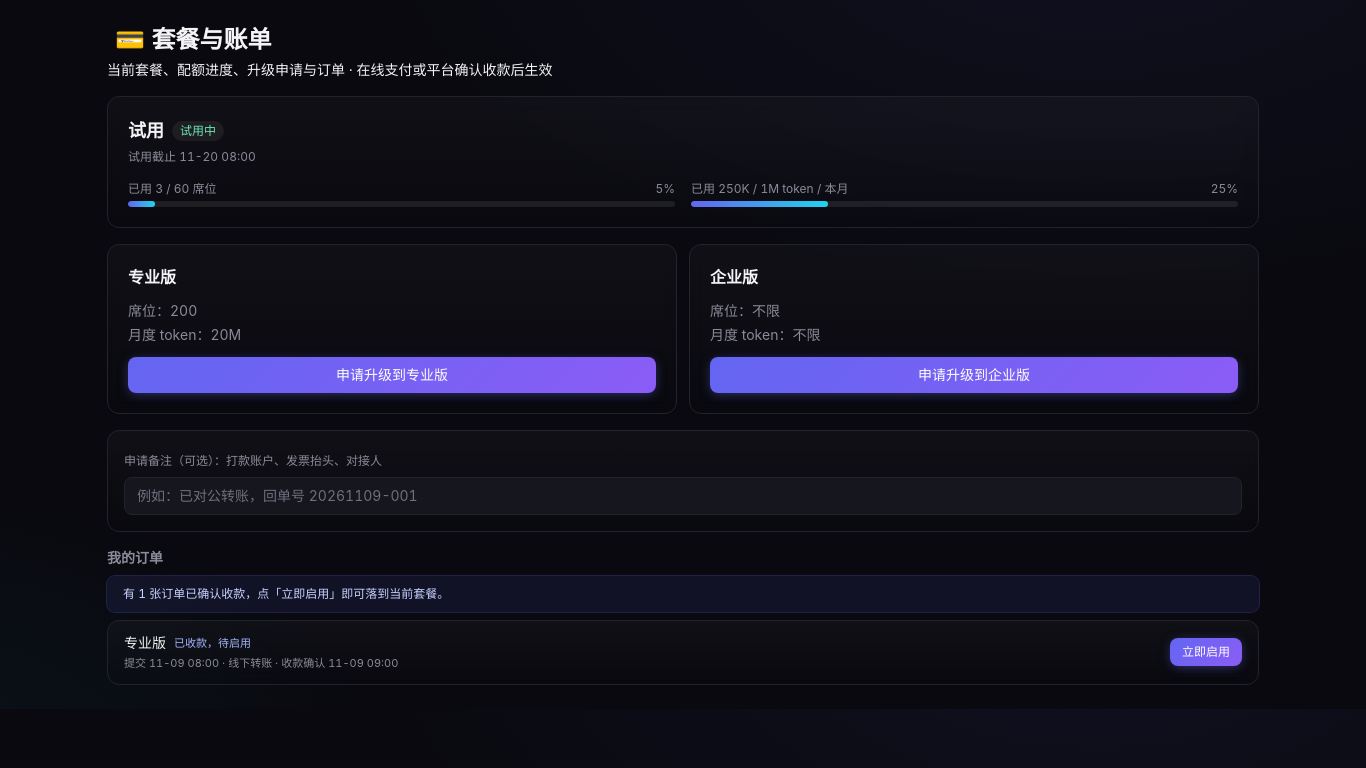
Test: 套餐升级申请流 › 已收款订单点「立即启用」按 order_id 落套餐
The image size is (1366, 768).
Check: the heading "💳 套餐与账单" is shown, box [115,25,271,54]
Click the button "立即启用" at [1206, 652], box [1170,638,1242,666]
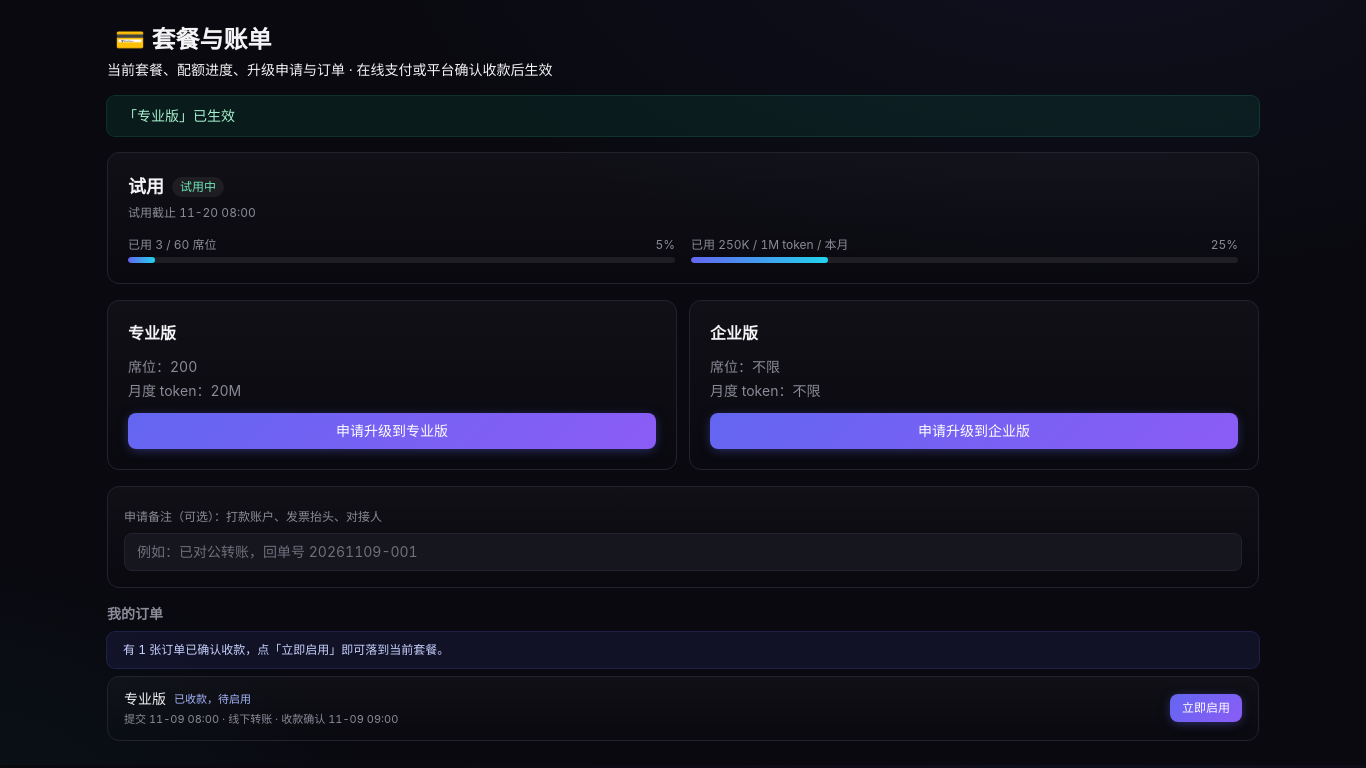
Check: the text "「专业版」已生效" is shown, box [107,96,1259,136]
